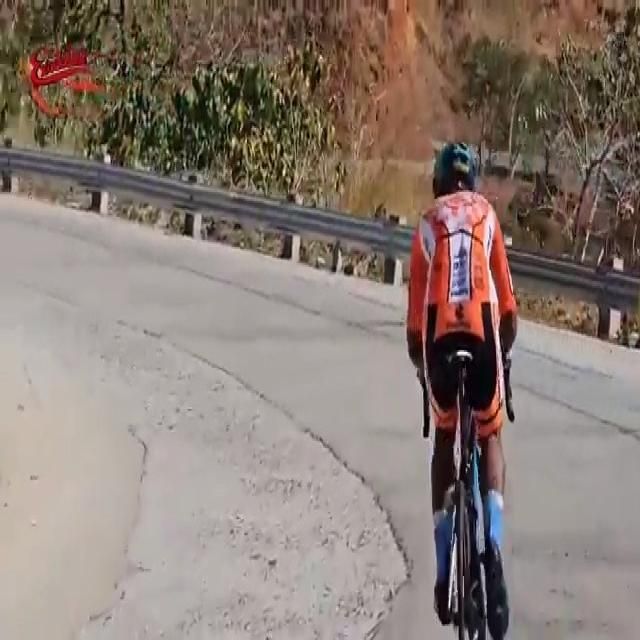bike: (404, 137, 518, 640)
